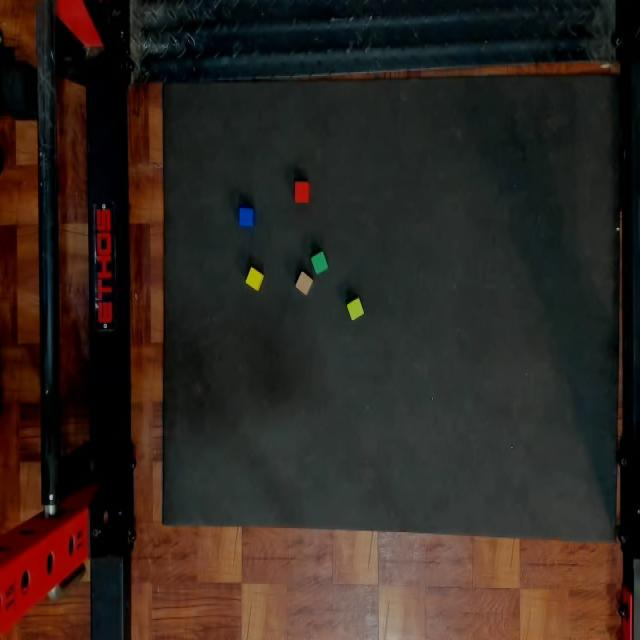block: (245, 268, 263, 291), (347, 297, 363, 320), (311, 251, 327, 273), (294, 181, 309, 203), (238, 205, 254, 225), (297, 272, 312, 293)
